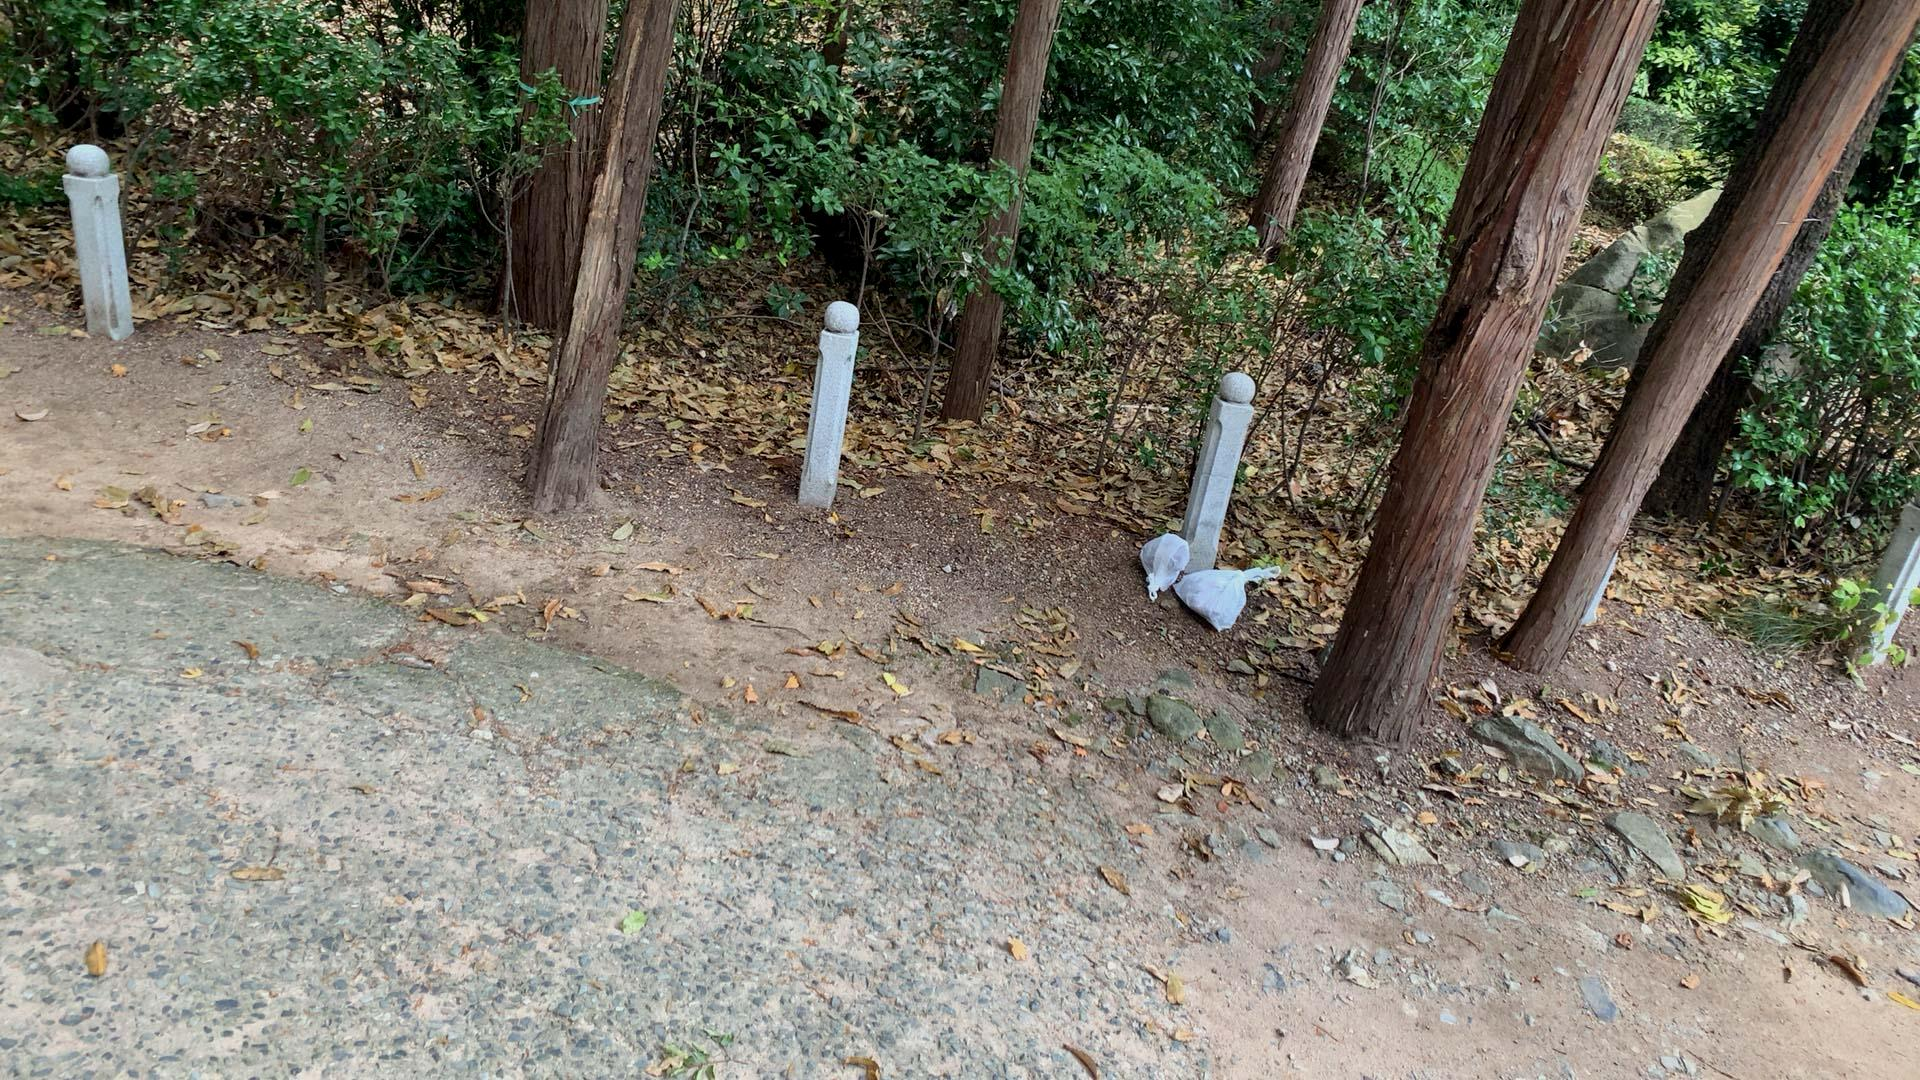white_bag: (1171, 558, 1284, 636), (1133, 529, 1192, 600)
